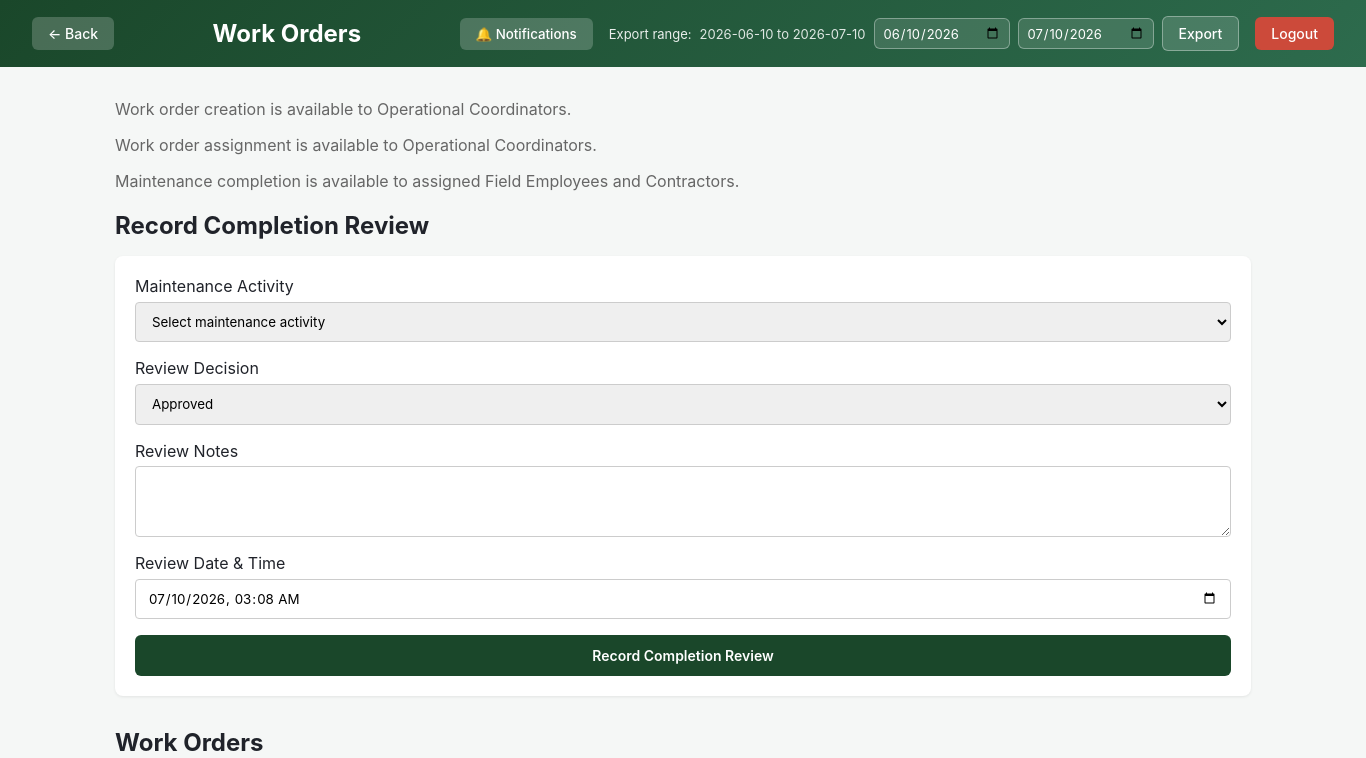
Test: WorkOrdersPage completion review › shows rework fields when REWORK_REQUIRED is selected and hides them for APPROVED
Check: the field labelled "Rework Severity" is not shown
Check: the field labelled "Root Cause" is not shown
Select "Rework Required" in the dropdown labelled "Review Decision" at (683, 404), box [135,384,1231,425]
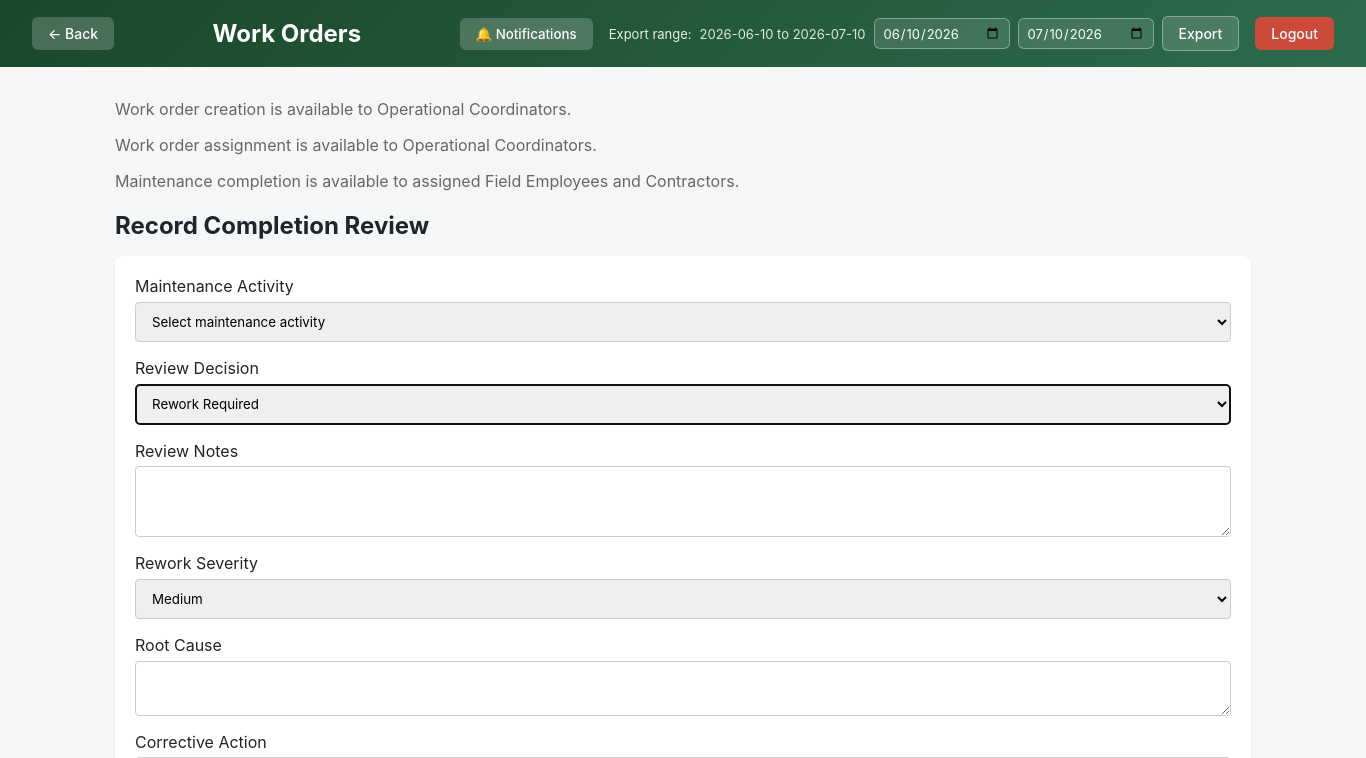
Check: the dropdown labelled "Rework Severity" is shown, box [135,579,1231,619]
Check: the text box labelled "Root Cause" is shown, box [135,661,1231,716]
Select "Approved" in the dropdown labelled "Review Decision" at (683, 404), box [135,384,1231,425]
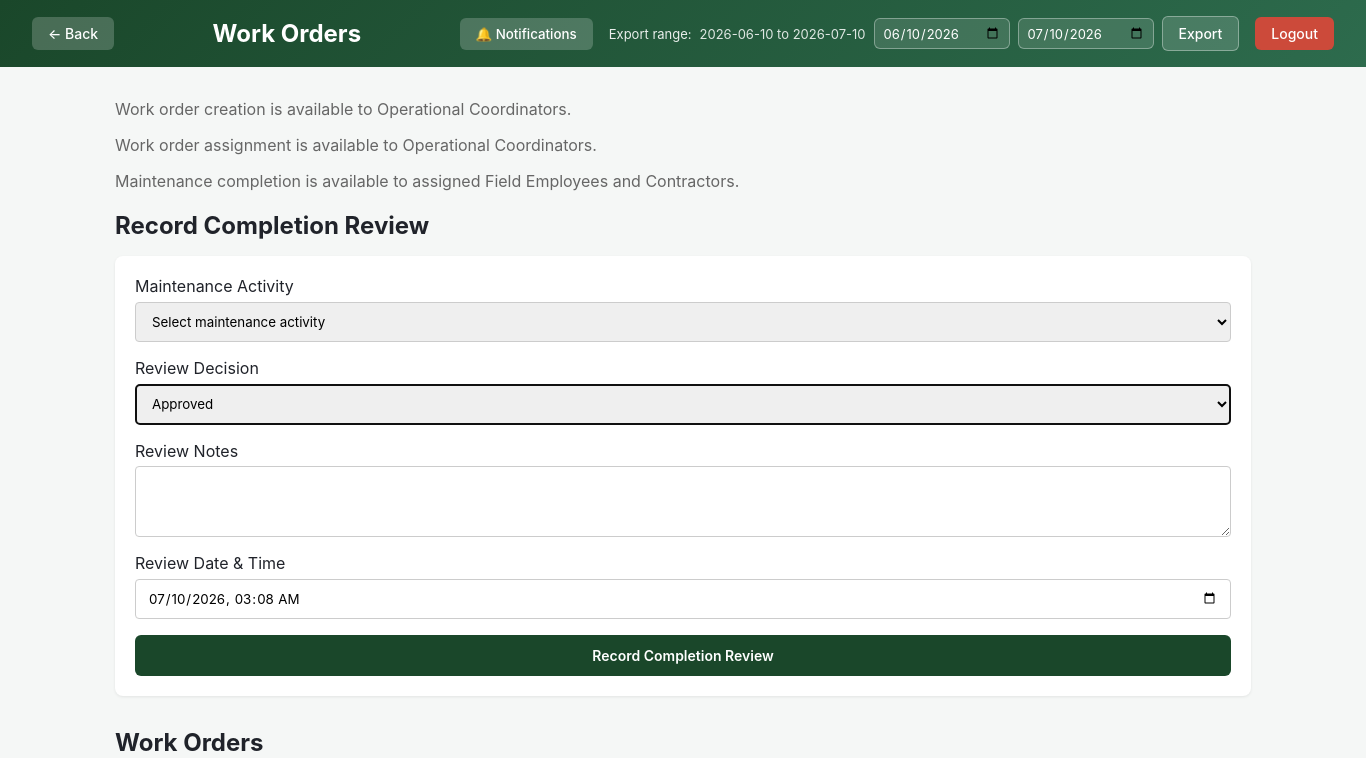
Check: the label labelled "Rework Severity" is gone
Check: the label labelled "Root Cause" is gone
